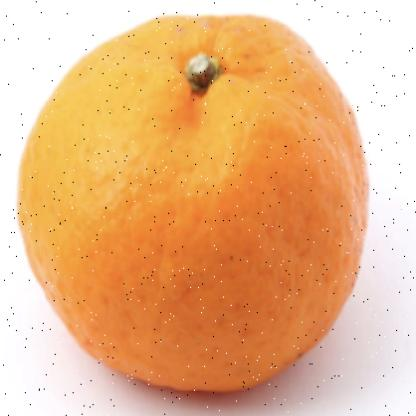fresh: (20, 14, 371, 398)
